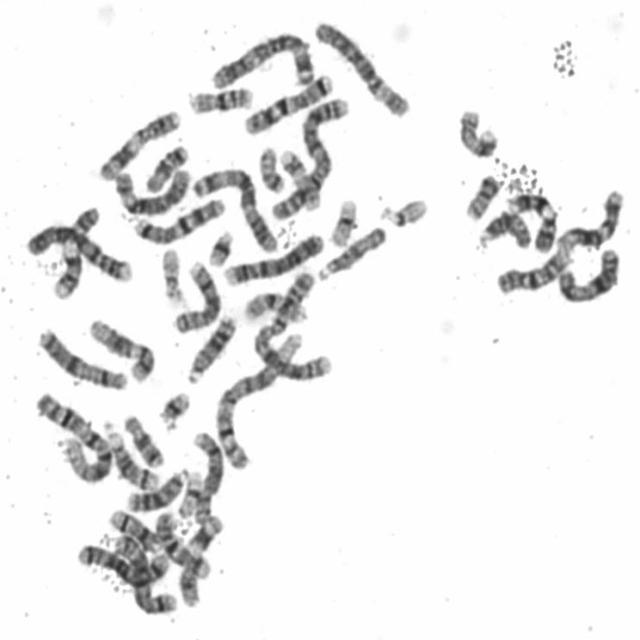A1: (210, 327, 306, 472), (30, 385, 116, 485)
A2: (267, 90, 352, 222), (244, 266, 335, 383)
A3: (187, 160, 281, 254), (205, 25, 316, 90)
B4: (22, 217, 134, 285), (218, 226, 327, 288)
B5: (109, 526, 179, 616), (72, 537, 172, 587)
C10: (491, 242, 576, 296), (150, 506, 212, 580)
C11: (93, 101, 184, 183), (175, 508, 226, 609)
C12: (551, 182, 627, 253), (84, 311, 156, 384)
C6: (309, 12, 412, 118), (109, 162, 192, 218)
C7: (238, 66, 336, 137), (128, 190, 228, 246)
C8: (168, 253, 223, 334), (187, 424, 225, 526)
C9: (48, 199, 102, 300), (501, 186, 559, 253)
D13: (182, 307, 238, 385), (121, 461, 190, 514)
D14: (100, 416, 162, 493), (104, 504, 162, 554)
D15: (312, 218, 389, 282), (472, 205, 534, 251)
E16: (239, 285, 311, 325), (183, 80, 256, 115)
E17: (275, 143, 322, 213), (452, 102, 500, 159)
E18: (118, 407, 166, 470), (140, 138, 191, 194)
F19: (324, 192, 360, 248), (174, 466, 206, 519)
F20: (459, 168, 504, 222), (254, 140, 288, 194)
G21: (152, 384, 193, 431), (203, 224, 236, 268)
G22: (374, 190, 431, 228), (155, 240, 186, 305)
X: (33, 321, 130, 392), (551, 241, 623, 305)
